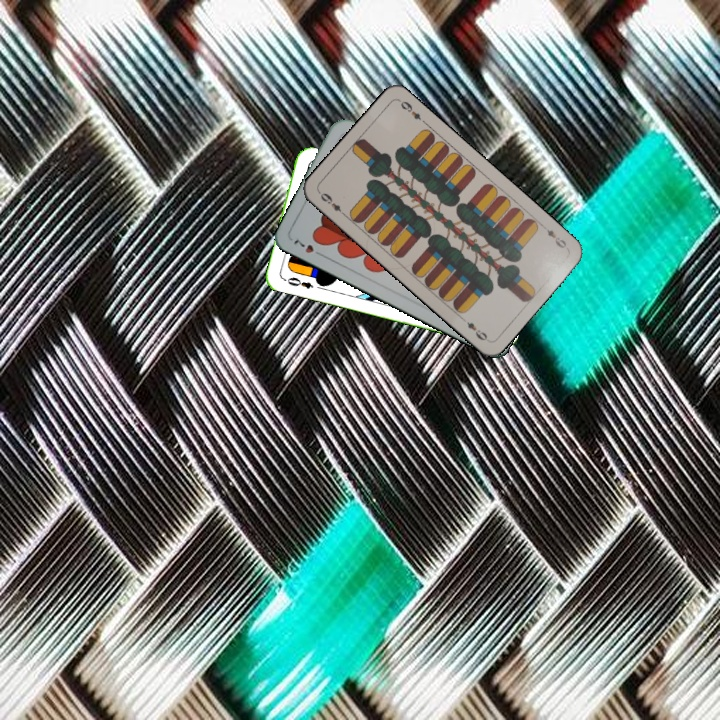E9: (315, 188, 349, 219), (543, 225, 569, 251)
EO: (279, 273, 316, 291)
H7: (289, 235, 326, 259)
